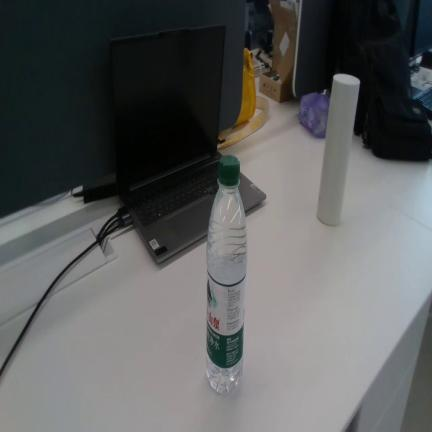bottle: (206, 155, 247, 394)
